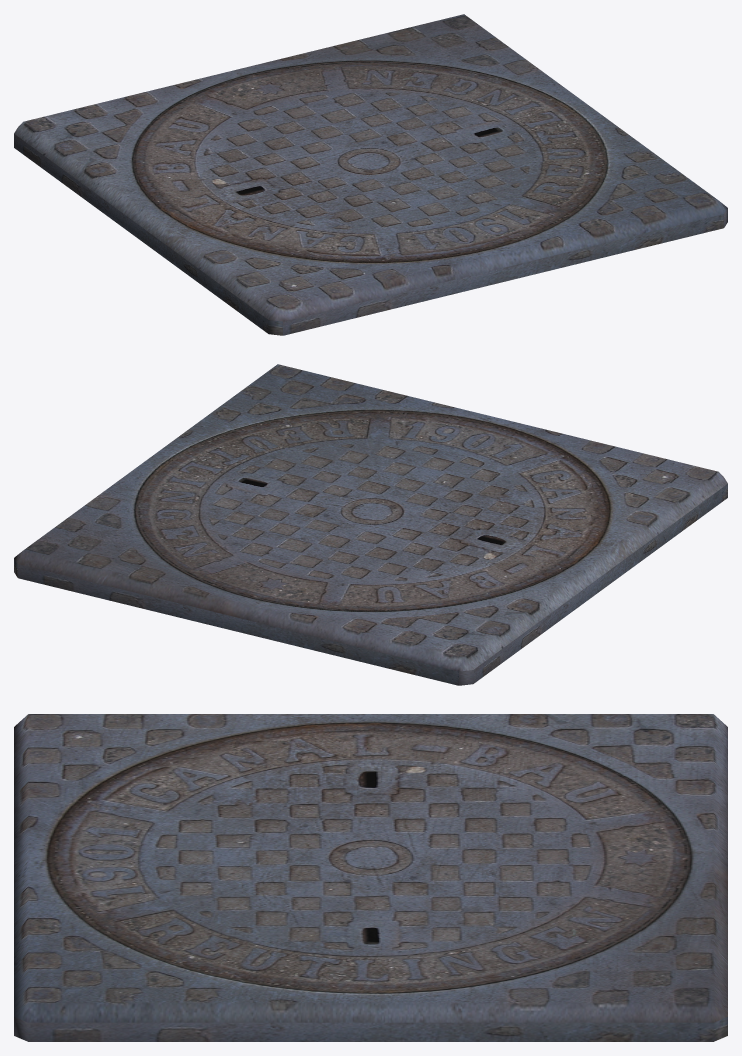
The model's file is manhole_cover_04.fbx.
3 views of the same model, one above another, from view 1: azimuth 30°, elevation 25°; view 2: azimuth 150°, elevation 25°; view 3: azimuth 270°, elevation 25° (orthographic). The views are drawn at different scales.
Parts seen in each view (by area): view 1: manhole_cover_04; view 2: manhole_cover_04; view 3: manhole_cover_04.
Part boxes in pixels (box(x1,y1,x2,y2)): manhole_cover_04: box(14, 14, 727, 335); manhole_cover_04: box(14, 364, 727, 685); manhole_cover_04: box(14, 714, 727, 1041).
Bounding box in the file's own units: 1 × 0.0496 × 1.
